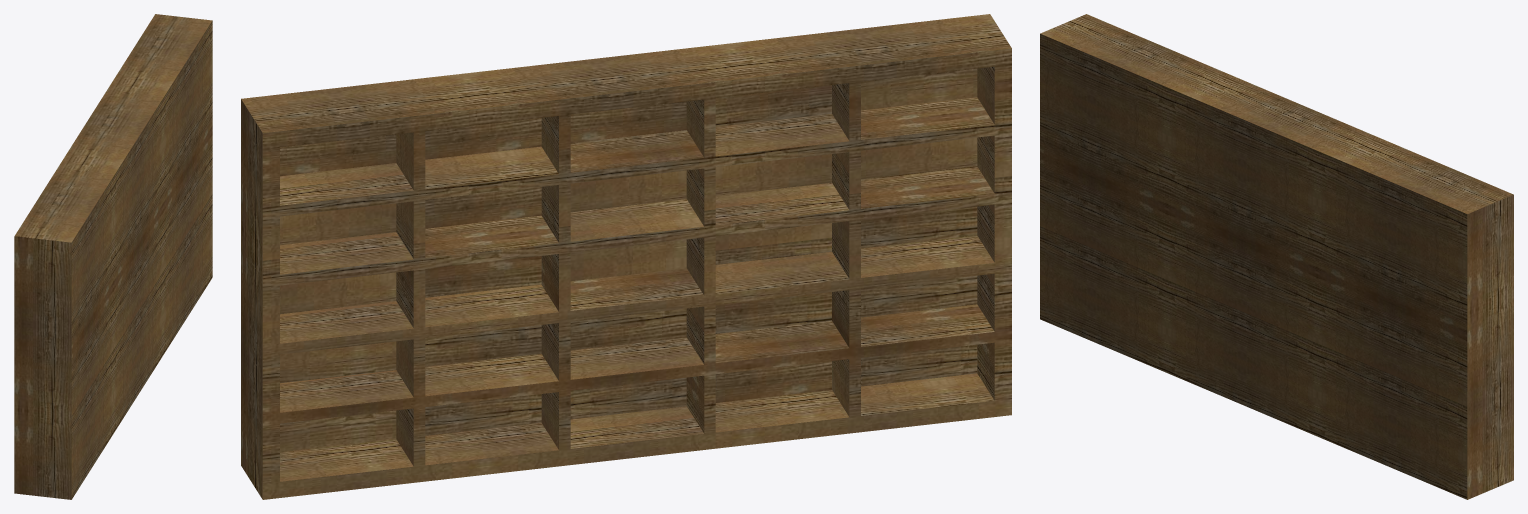
Rendered from cabinet.glb.
3 renders of one model, left to right at view 1: azimuth 30°, elevation 25°; view 2: azimuth 150°, elevation 25°; view 3: azimuth 270°, elevation 25°, orthographic. The views are drawn at different scales.
Visible parts, largest first — view 1: CabinetNew; view 2: CabinetNew; view 3: CabinetNew.
Boxes of the visible parts, bbox=[...] form: CabinetNew: bbox=[14, 14, 212, 499]; CabinetNew: bbox=[241, 14, 1011, 499]; CabinetNew: bbox=[1040, 14, 1513, 499].
Size of the model in its own units: 1.8 by 1.2 by 1.8.
1 material, 1 textured.
